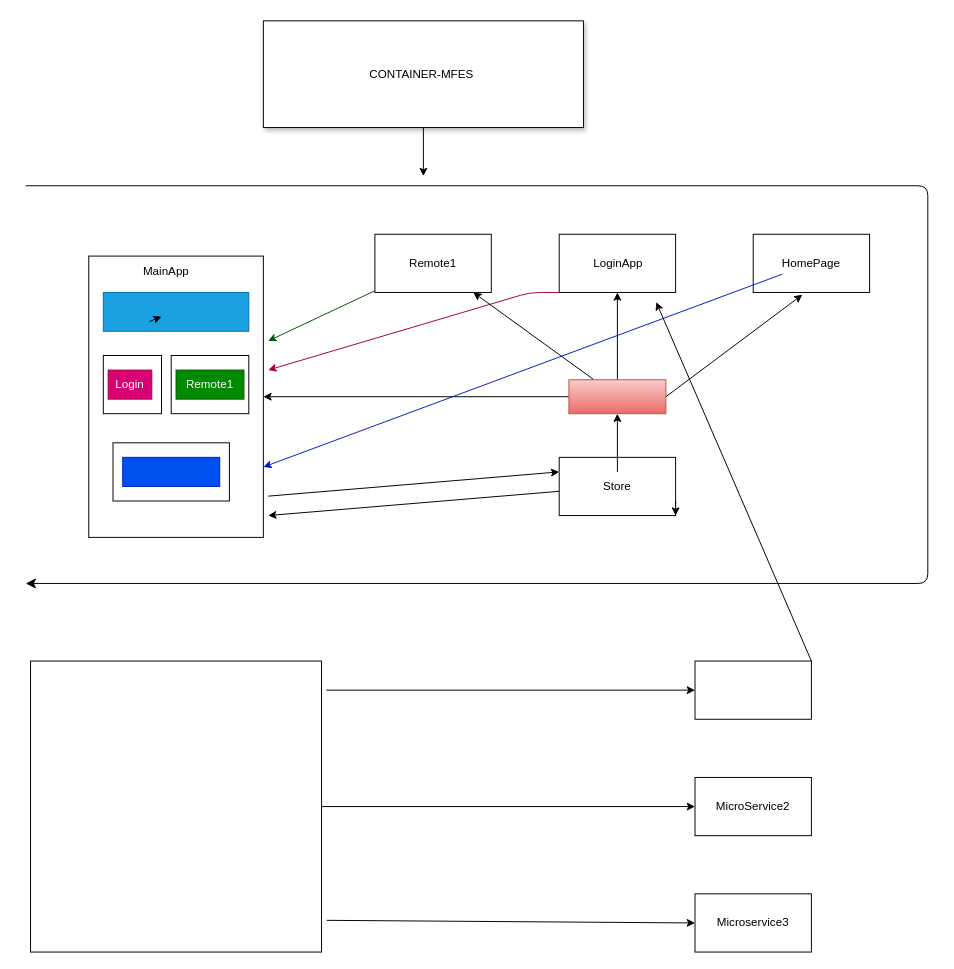
Some shapes in this 954 by 969 pixel diagram are drawn without their labels. Here are the shapes that lost their labels. From the top down, the centre of each, then its label:
the point at 175,311: Navbar
the point at 617,396: Provider
the point at 171,471: Home Page
the point at 752,689: MicroService1 Login
the point at 176,806: Centralise Database PostgreSql
